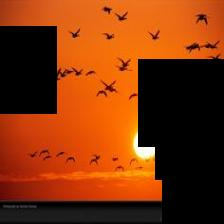orange: (0, 1, 224, 201)
